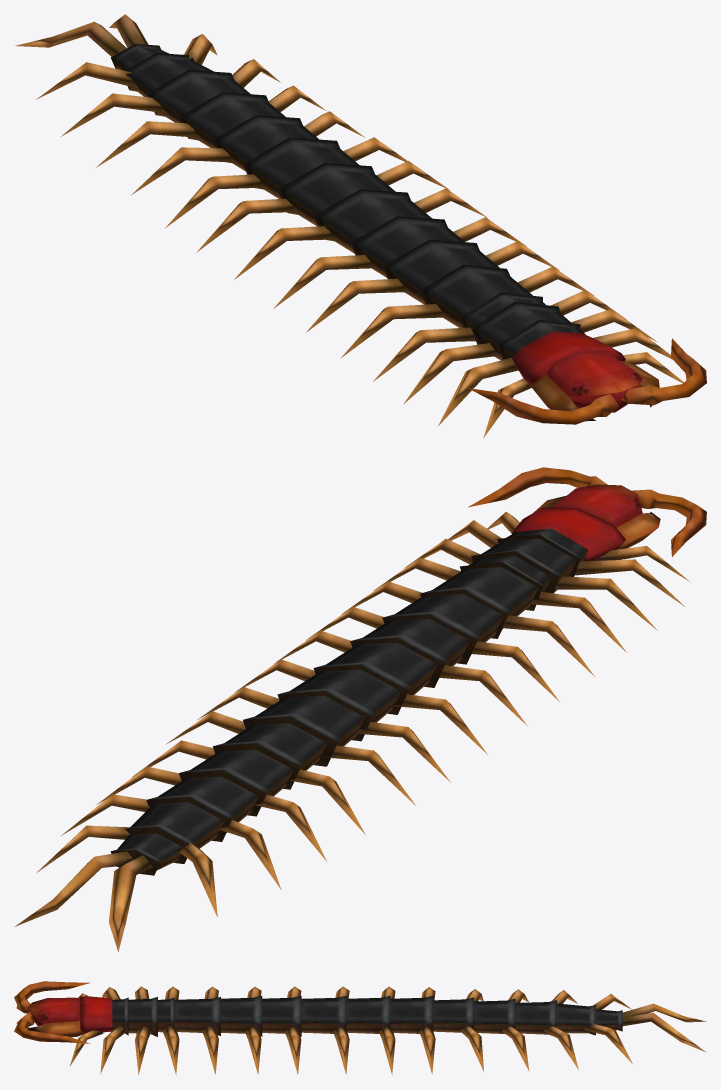
Rendered from centipede.glb.
The picture shows the model from 3 angles, top to bottom: view 1: azimuth 30°, elevation 25°; view 2: azimuth 150°, elevation 25°; view 3: azimuth 270°, elevation 25°; orthographic projection. The views are drawn at different scales.
Size of the model in its own units: 1.7 by 0.3846 by 6.52.
Materials: 1 (1 with a texture image).
